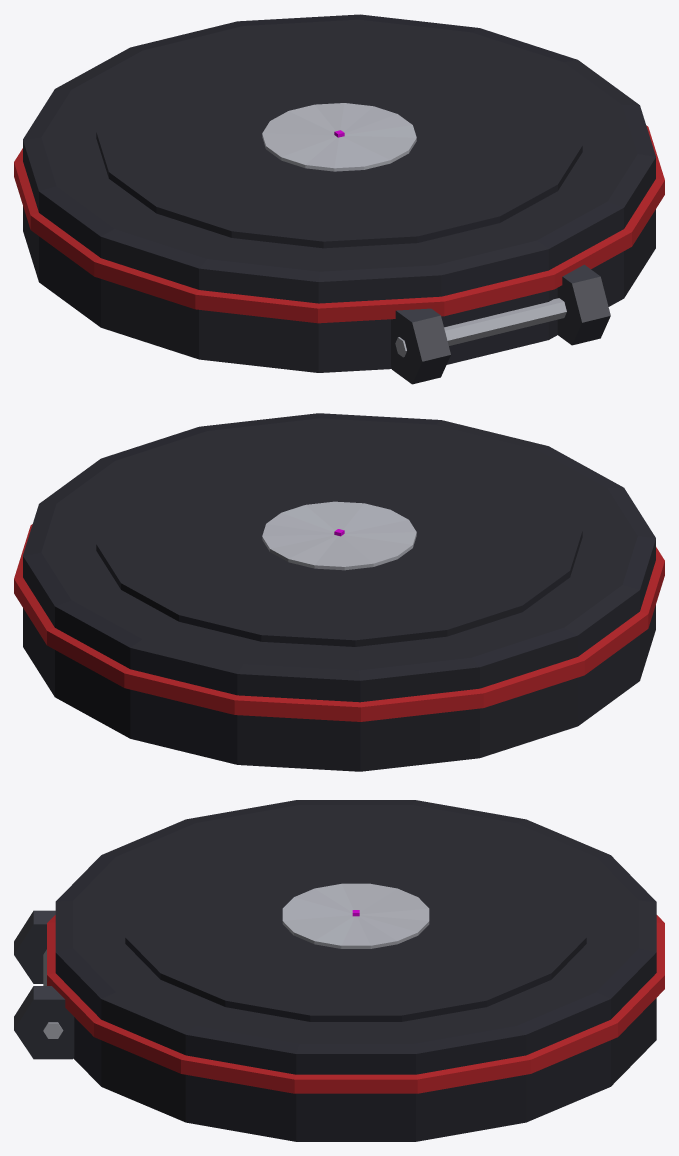
The model's file is Platform_BuffShiba.fbx.
3 renders of one model, top to bottom at view 1: azimuth 30°, elevation 25°; view 2: azimuth 150°, elevation 25°; view 3: azimuth 270°, elevation 25°, orthographic. The views are drawn at different scales.
Parts seen in each view (by area): view 1: Body; view 2: Body; view 3: Body.
Boxes of the visible parts, box(x1,y1,x2,y2) form: Body: box(14, 14, 664, 384); Body: box(14, 413, 664, 771); Body: box(14, 800, 664, 1141).
Bounding box in the file's own units: 8.67 × 1.6 × 9.14.
